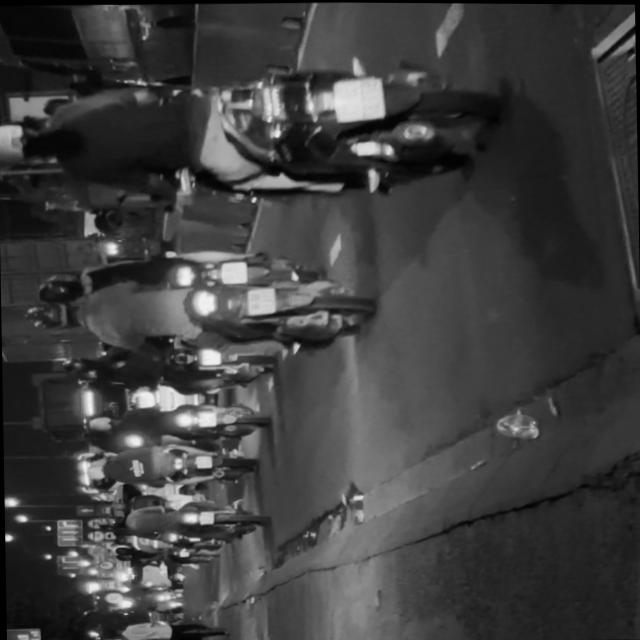helmet: (0, 119, 53, 161), (23, 299, 77, 328), (33, 275, 82, 304)
licenseplate: (0, 50, 511, 213), (21, 271, 372, 358), (25, 243, 333, 296)
nohelmet: (331, 75, 382, 121), (244, 285, 273, 314), (219, 261, 245, 282)
